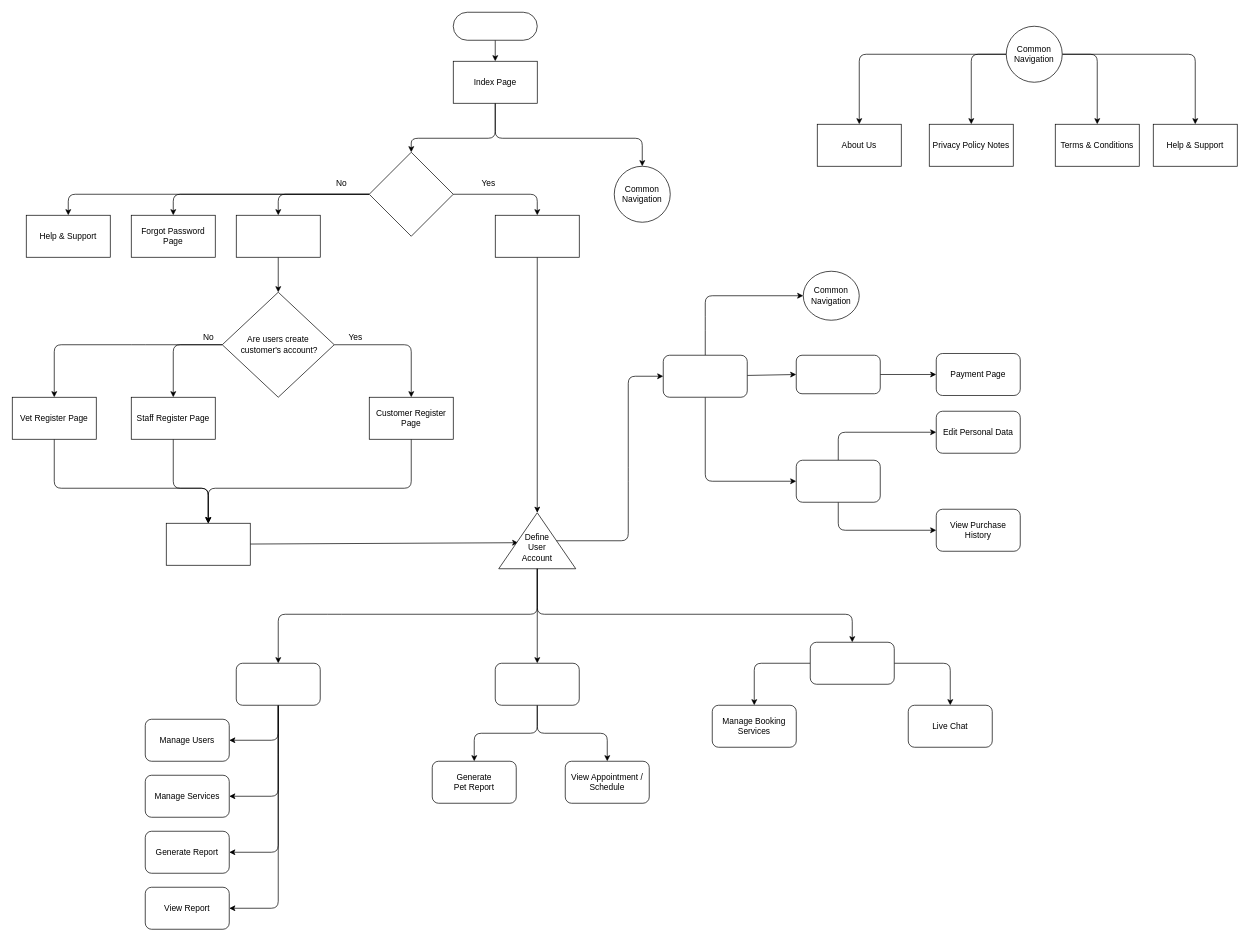
Some shapes in this 1250 by 942 pixel diagram are drawn without their labels. The shapes that lost their labels are listed below. From the top down, each one's box as (x1, y1, x2, y2) in pixels, then its label:
(453, 12, 537, 40): Start
(369, 152, 453, 236): Do users have account?
(236, 215, 320, 257): Register Page
(495, 215, 579, 257): Login Page
(663, 355, 747, 397): Customer Page
(796, 355, 880, 394): Service Page
(796, 460, 880, 502): Profile Page
(166, 523, 250, 565): Login
(810, 642, 894, 684): Staff Page
(236, 663, 320, 705): Admin Page
(495, 663, 579, 705): Vet Page
